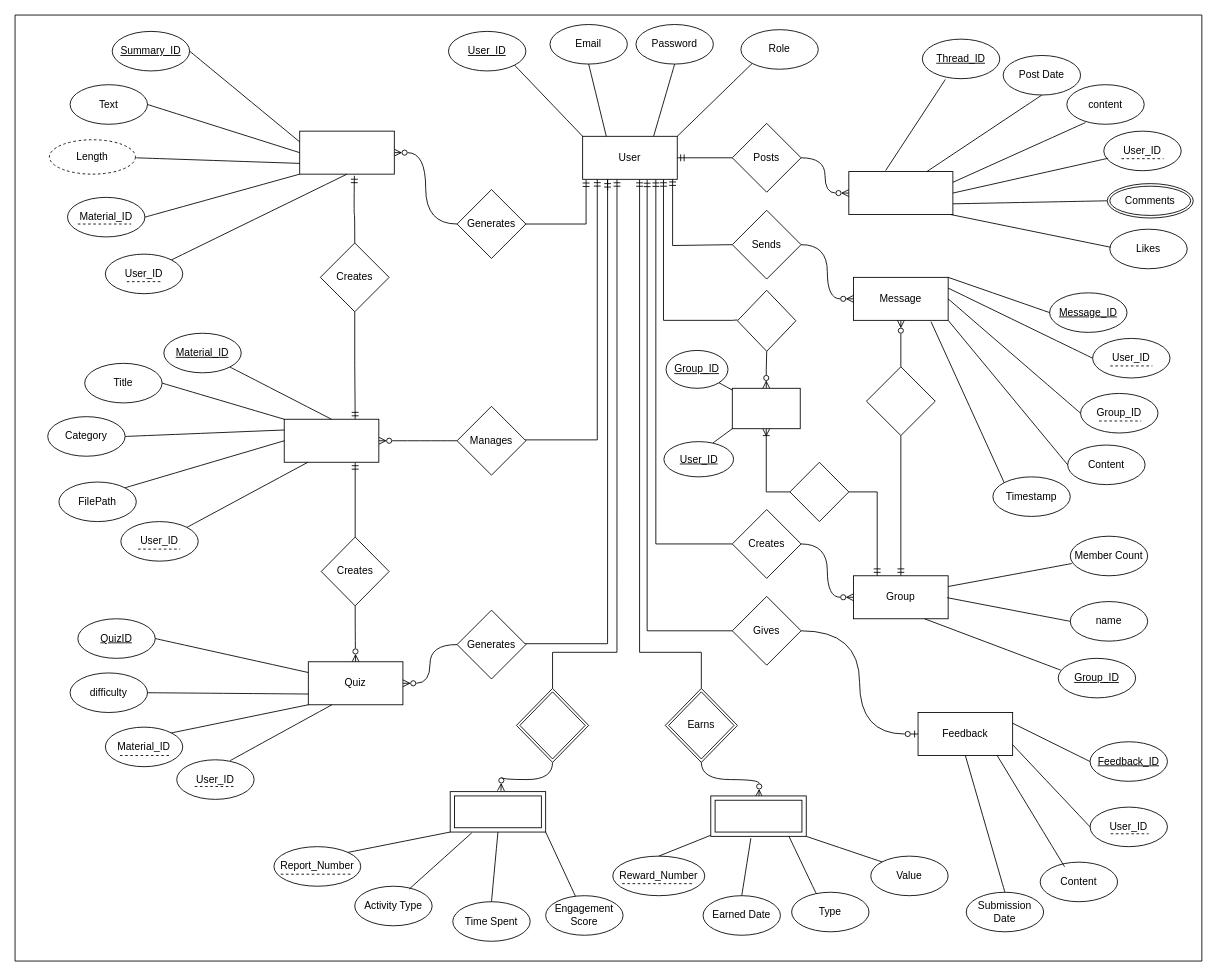
Image size: 1217x976. Some labels were removed from this diagram. Here are the shapes that lost their labels. From the top down, the centre of each, then its label:
At point (346, 152): "Summary".
At point (900, 193): "Thread".
At point (766, 320): "Joins".
At point (765, 408): "UserGroup".
At point (900, 401): "Contains".
At point (331, 440): "StudyMaterial".
At point (819, 491): "Has".
At point (552, 725): "Views".
At point (497, 811): "Progress Report".
At point (758, 815): "Reward".
